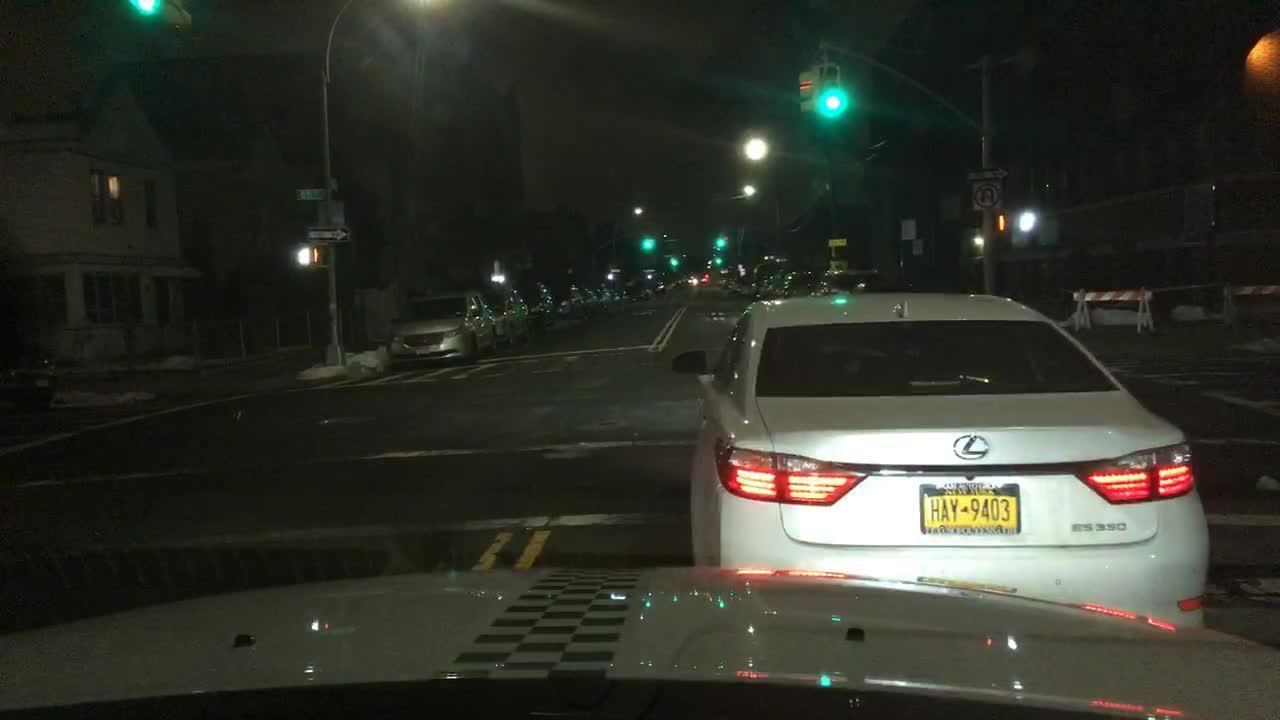lexus: (938, 418, 1005, 472)
